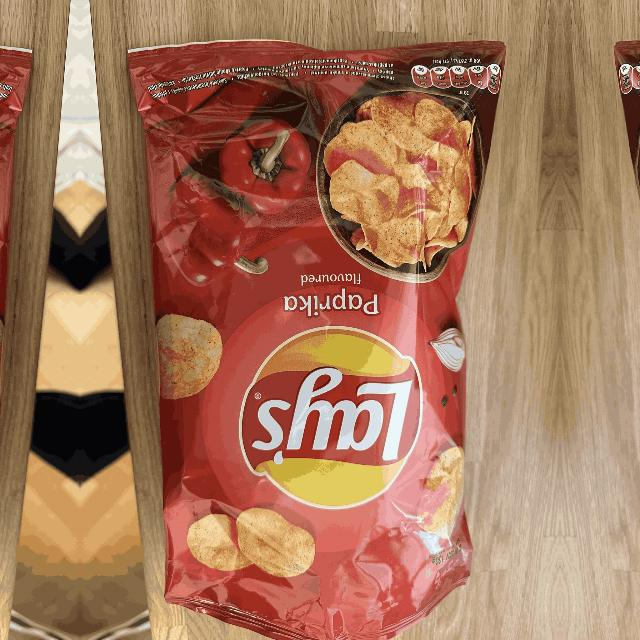lays: (239, 327, 424, 511)
